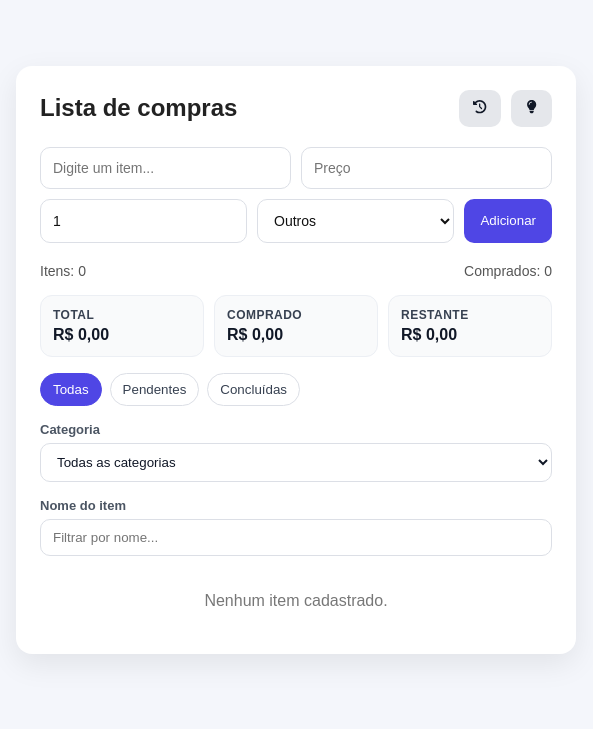
Test: Shopping app › archives purchased items in shopping history
The image size is (593, 729).
In the field with placeholder "Digite um item...": {"x": 166, "y": 168} [40,147,291,189], type "Arroz"
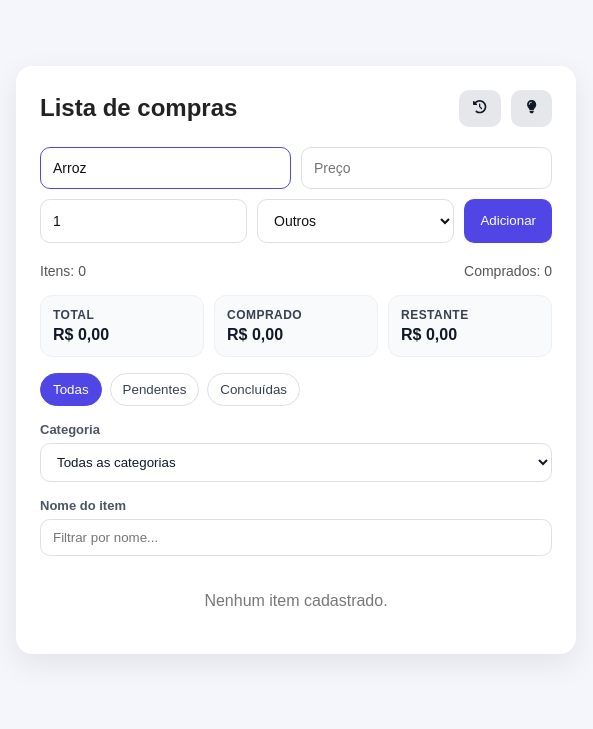
In the number field with placeholder "Preço": {"x": 426, "y": 168} [301,147,552,189], type "12"
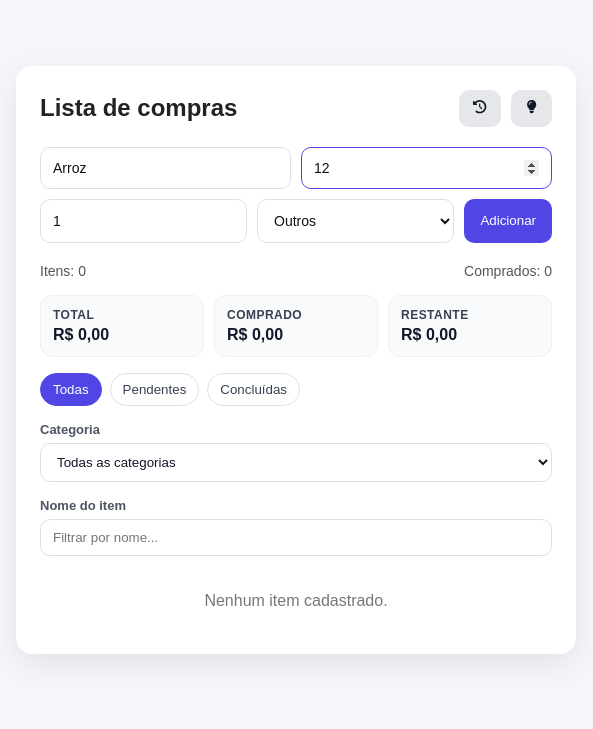
Click the button "Adicionar": {"x": 508, "y": 221} [464,199,552,243]
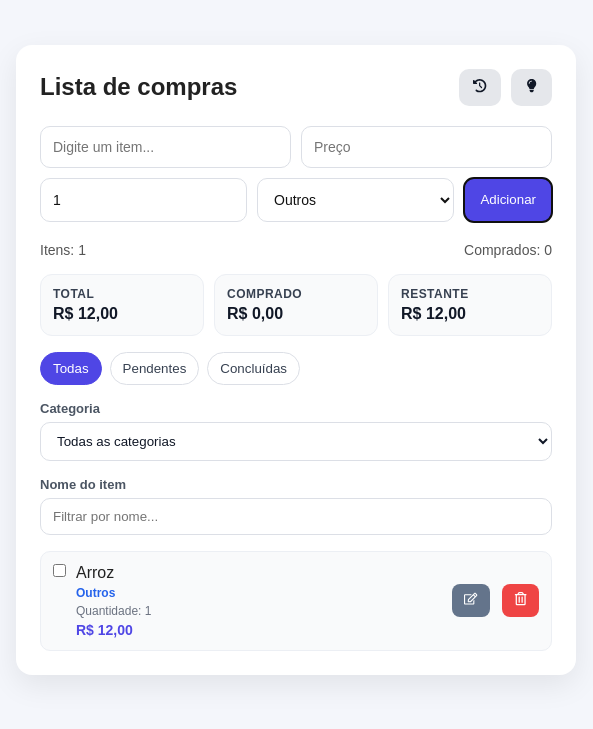
Click the checkbox: {"x": 60, "y": 570} [53,564,66,577]
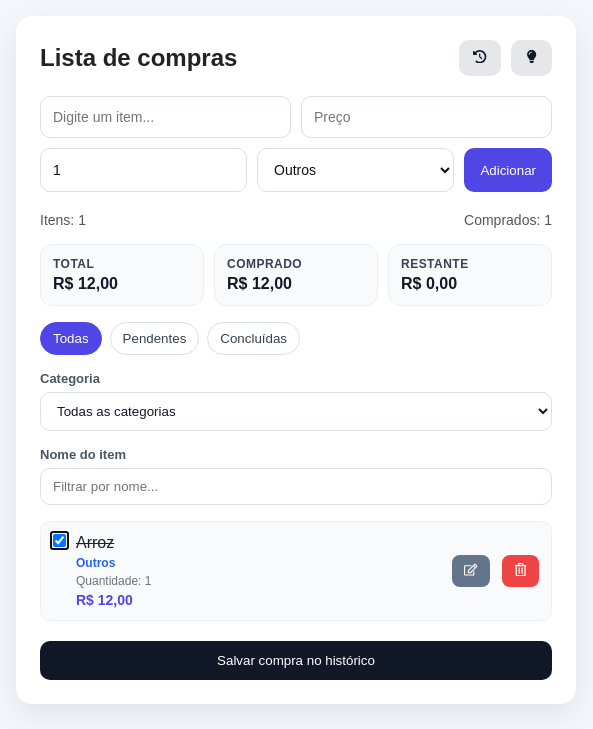
Click the button "Salvar compra no histórico": {"x": 296, "y": 661} [40,641,552,680]
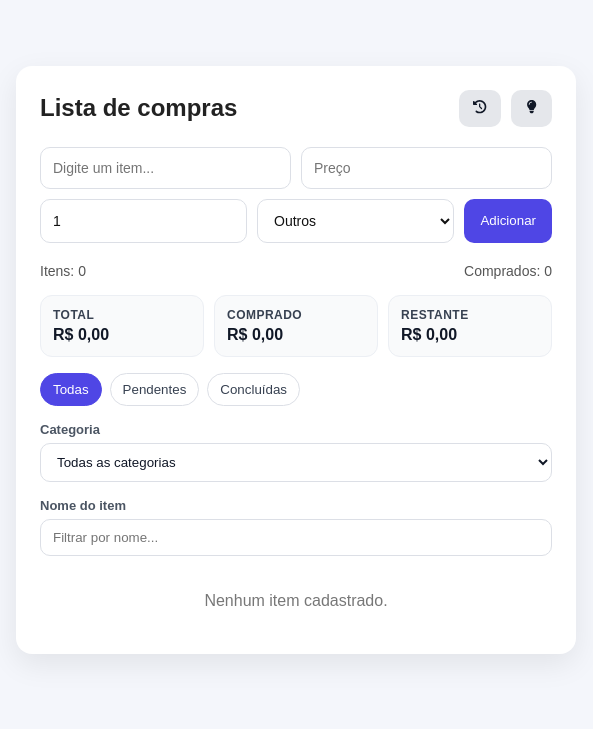
Now the text "Arroz" is gone
Click the button named "Ir para hist": {"x": 480, "y": 108} [459,90,501,127]
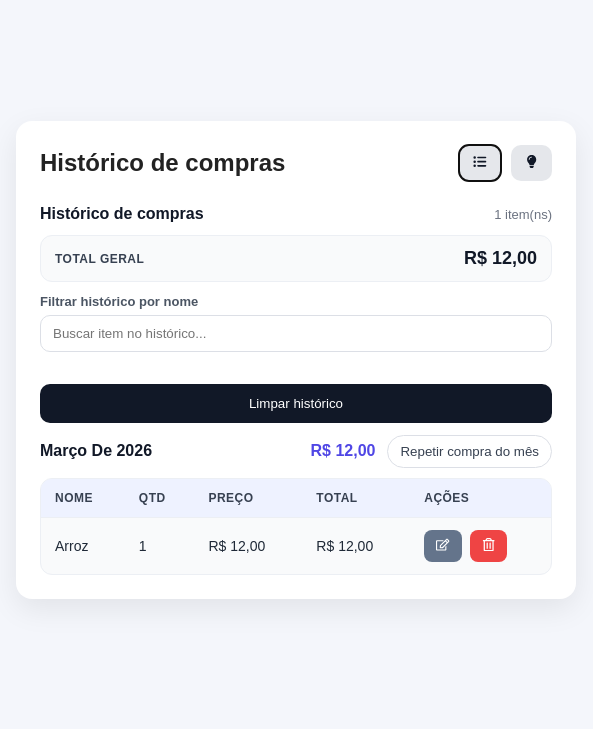
Now the column heading "Nome" is shown, box [41,479,125,518]
Now the column heading "Qtd" is shown, box [125,479,194,518]
Now the column heading "Preço" is shown, box [194,479,302,518]
